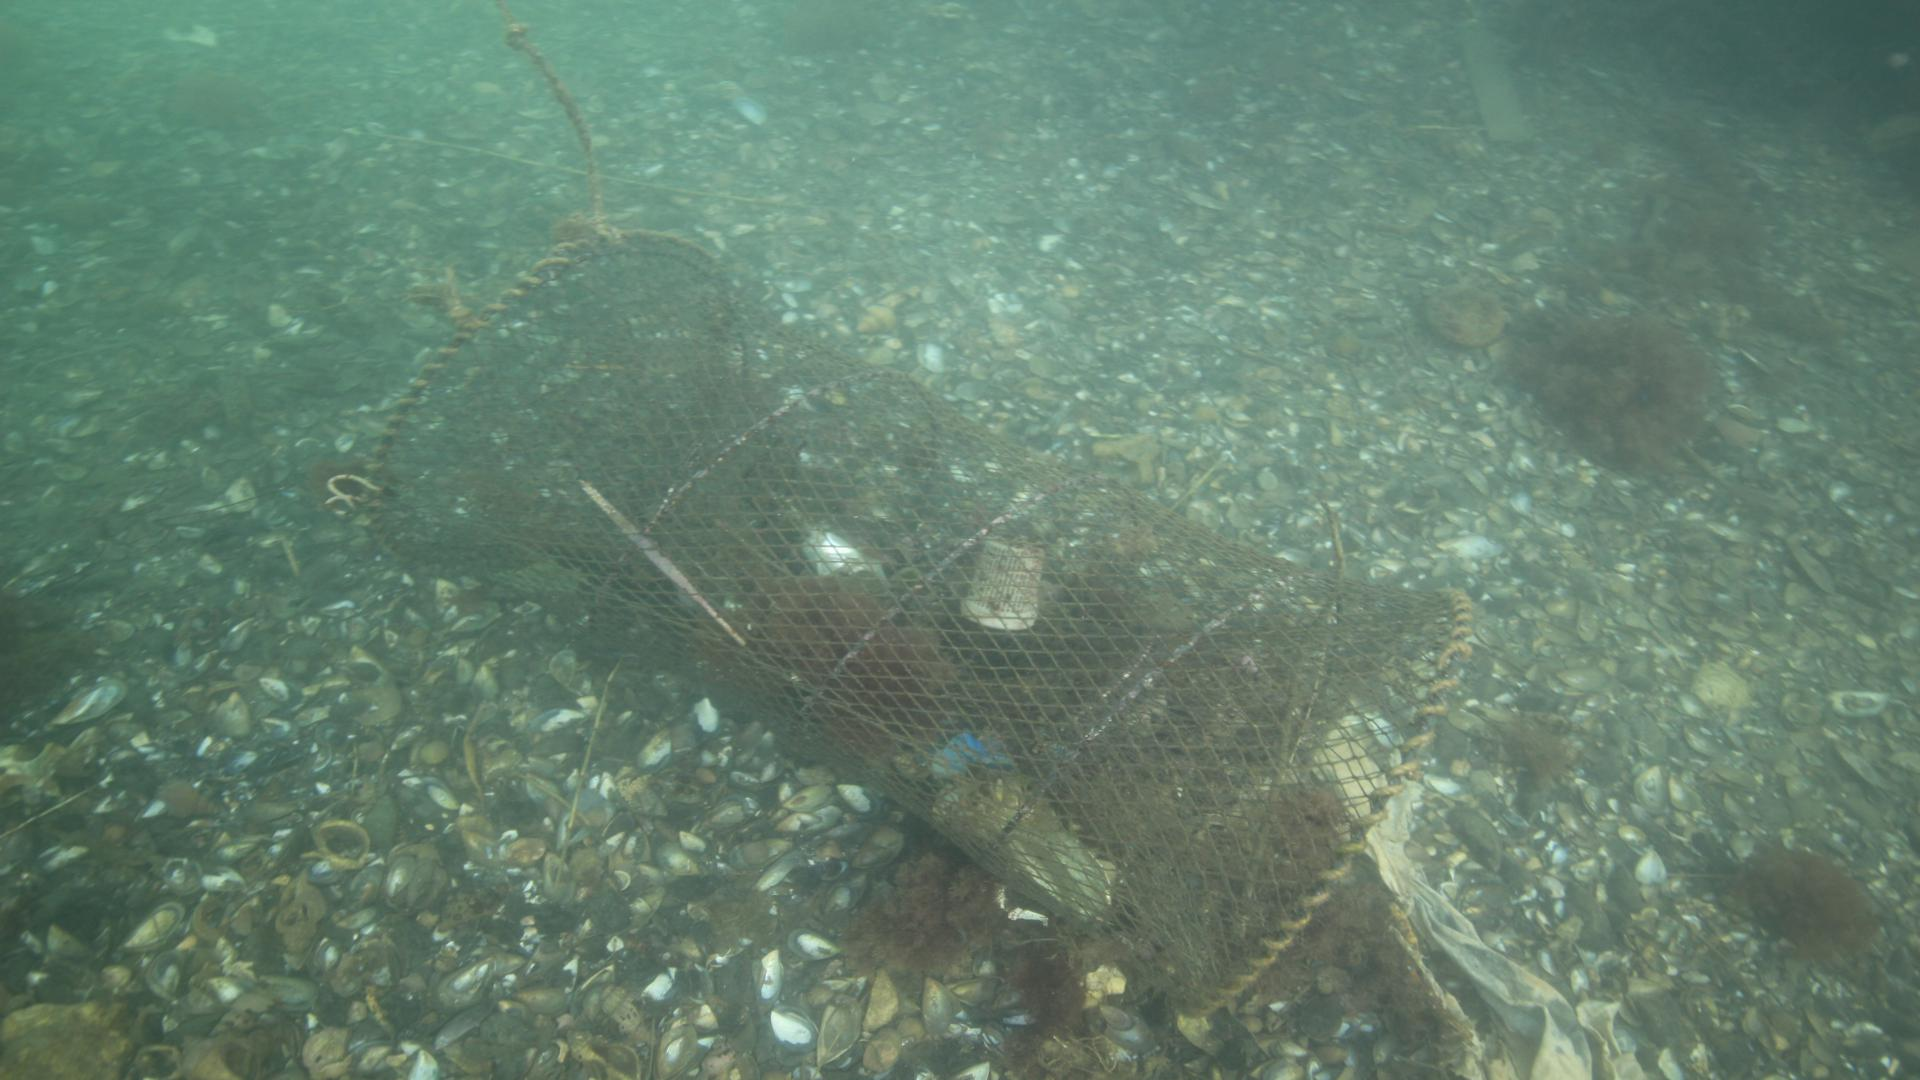rope: (488, 22, 617, 239)
spring fish trap: (359, 228, 1470, 1018)
